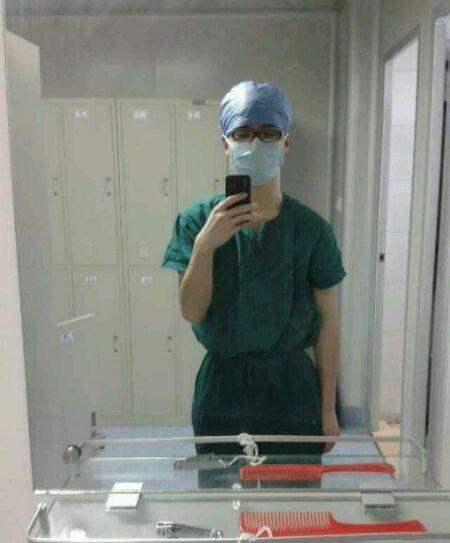OK: (229, 118, 290, 179)
